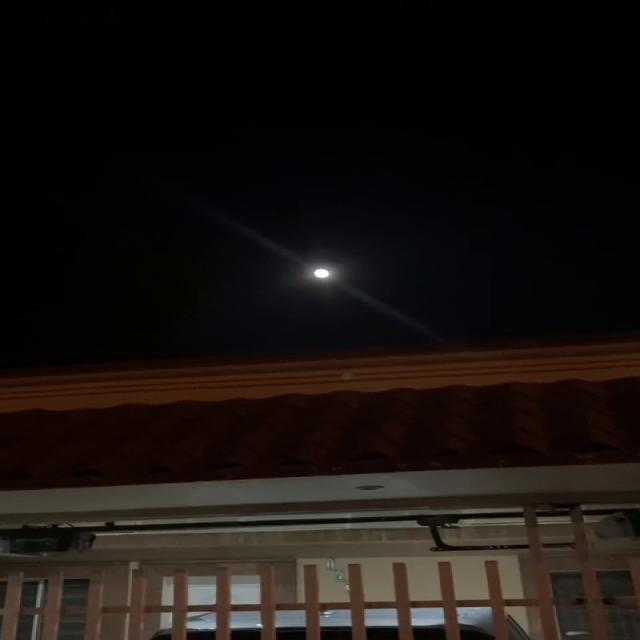moon: (306, 265, 330, 279)
